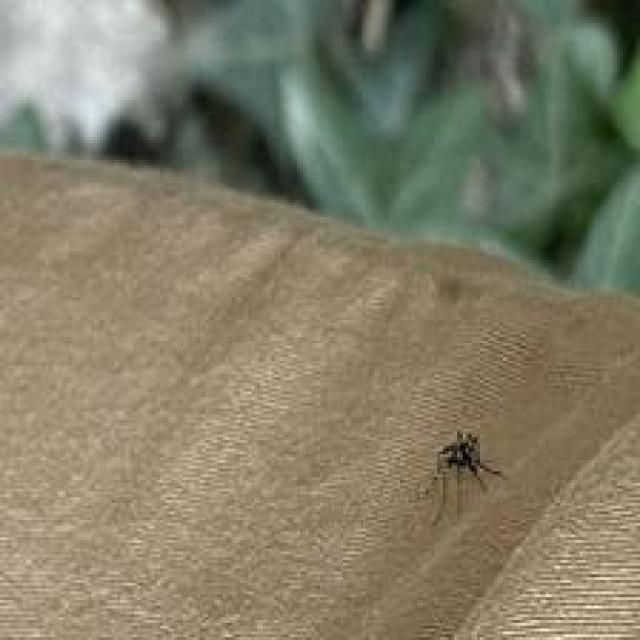Aedes albopictus: (419, 427, 504, 527)
